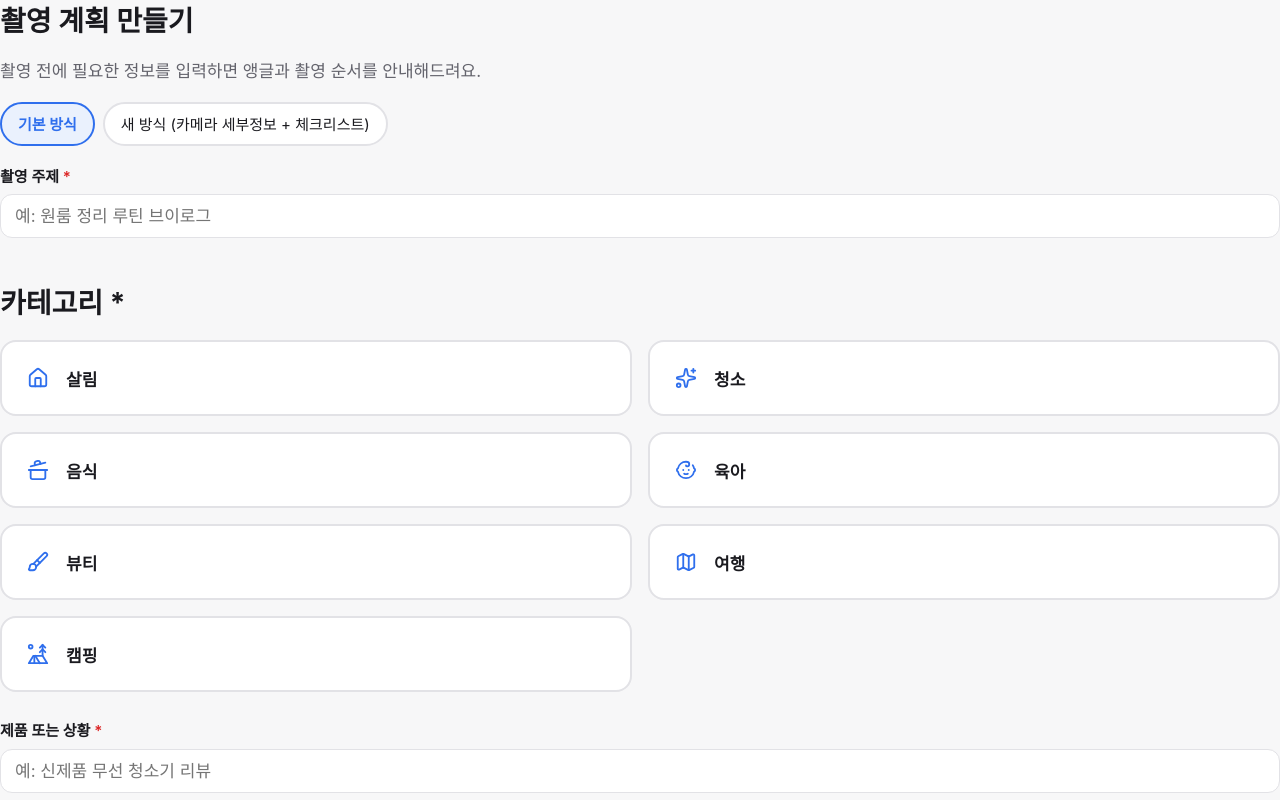
Scenario: ShootingGuideScreen - 새 방식(v2) › v2 폼 제출 시 새 스키마로 요청하고 체크리스트 결과 화면을 보여준다
Click the button "새 방식 (카메라 세부정보 + 체크리스트)" at (245, 124), box x1=103 y1=102 x2=388 y2=146
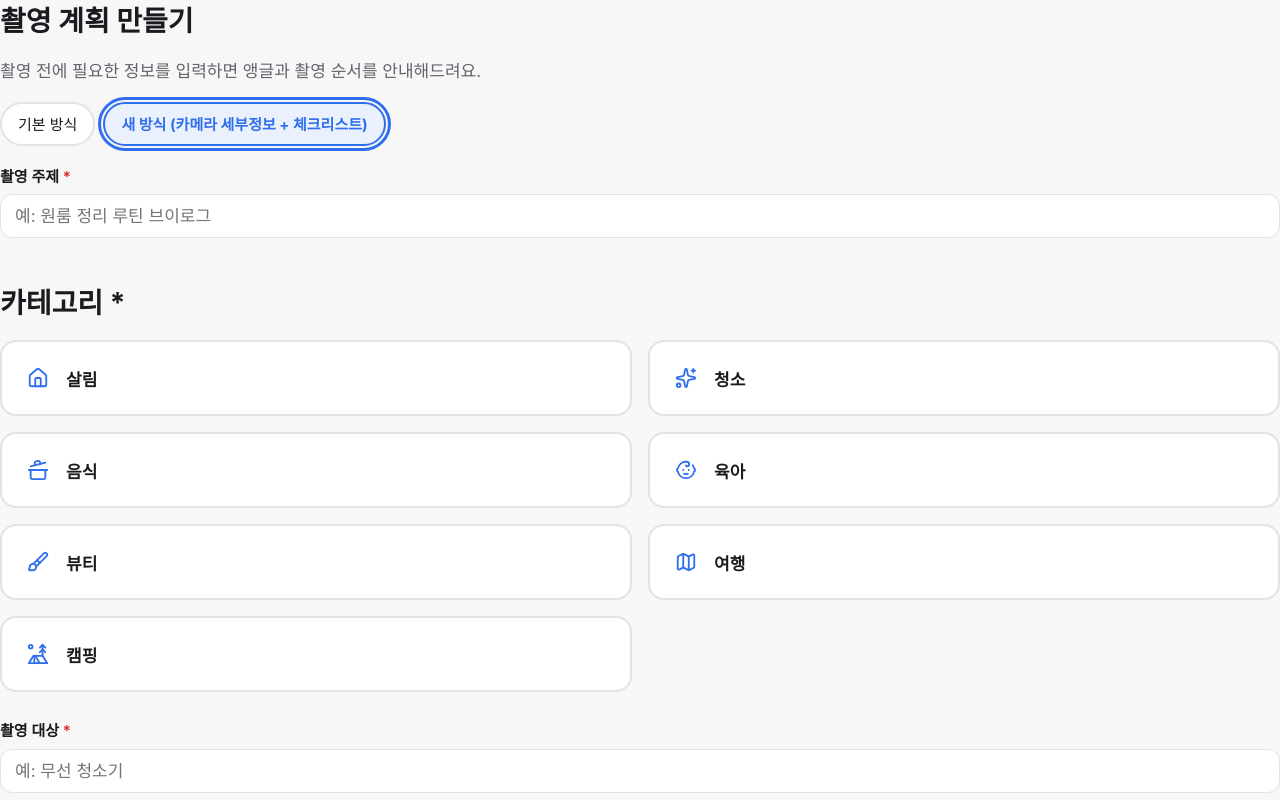
Type "캠핑 요리" into the field labelled "촬영 주제 *" at (640, 216), box x1=0 y1=194 x2=1279 y2=238
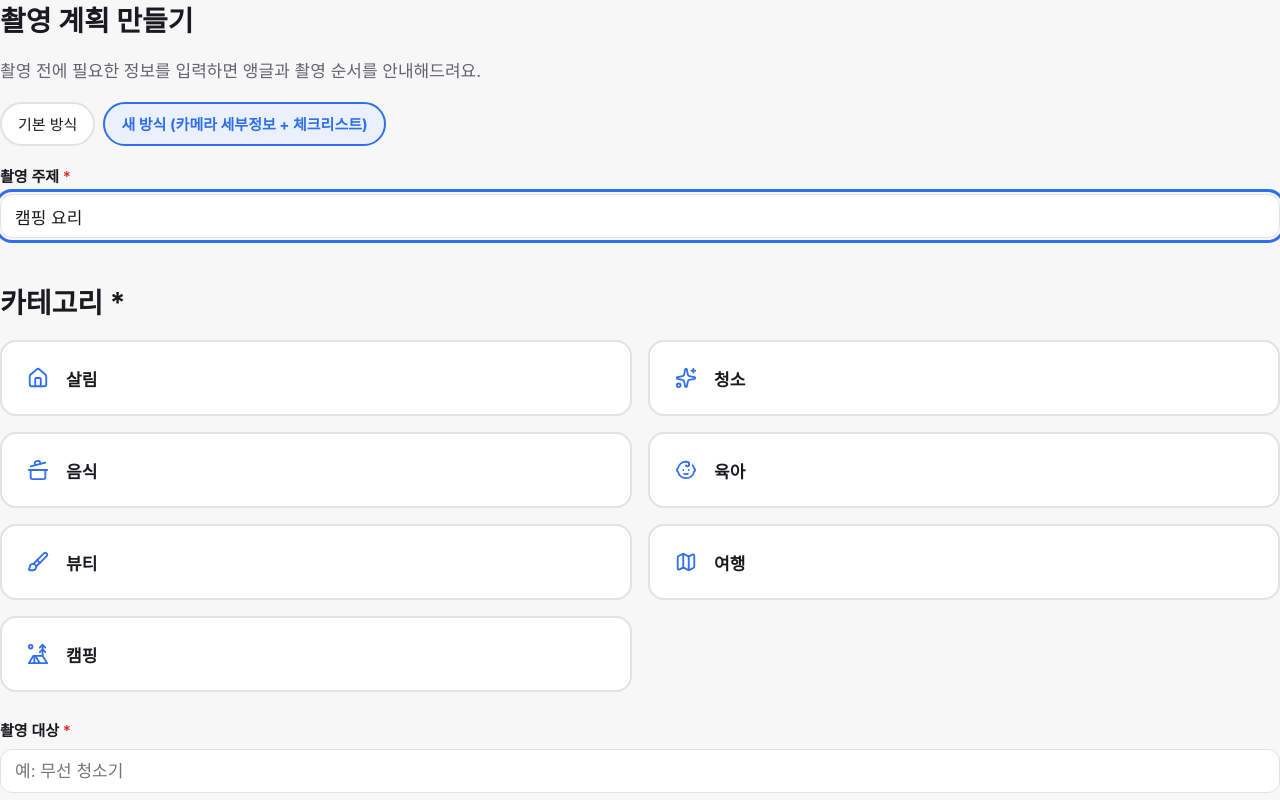
Click the button "캠핑" at (82, 656), box x1=0 y1=616 x2=632 y2=692
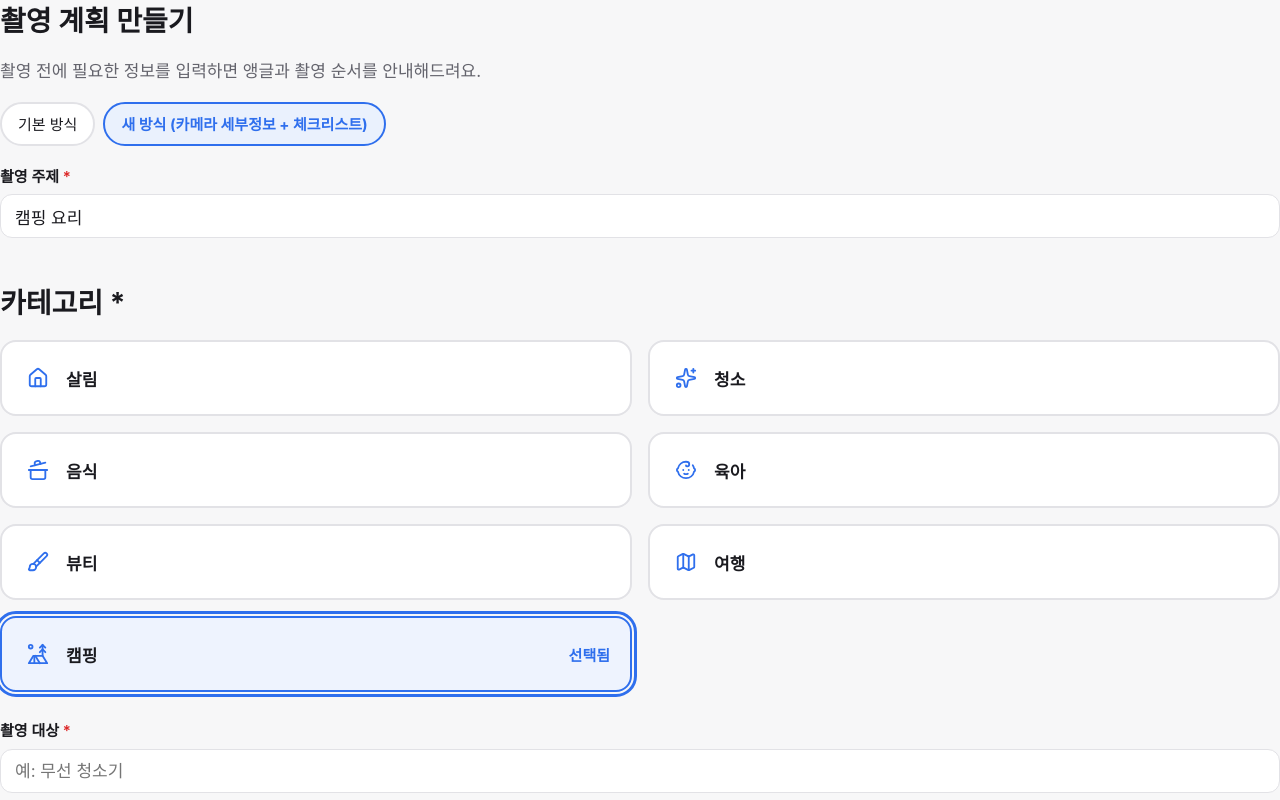
Type "더치오븐 요리" into the field labelled "촬영 대상 *" at (640, 770), box x1=0 y1=748 x2=1279 y2=792
(page scrolled)
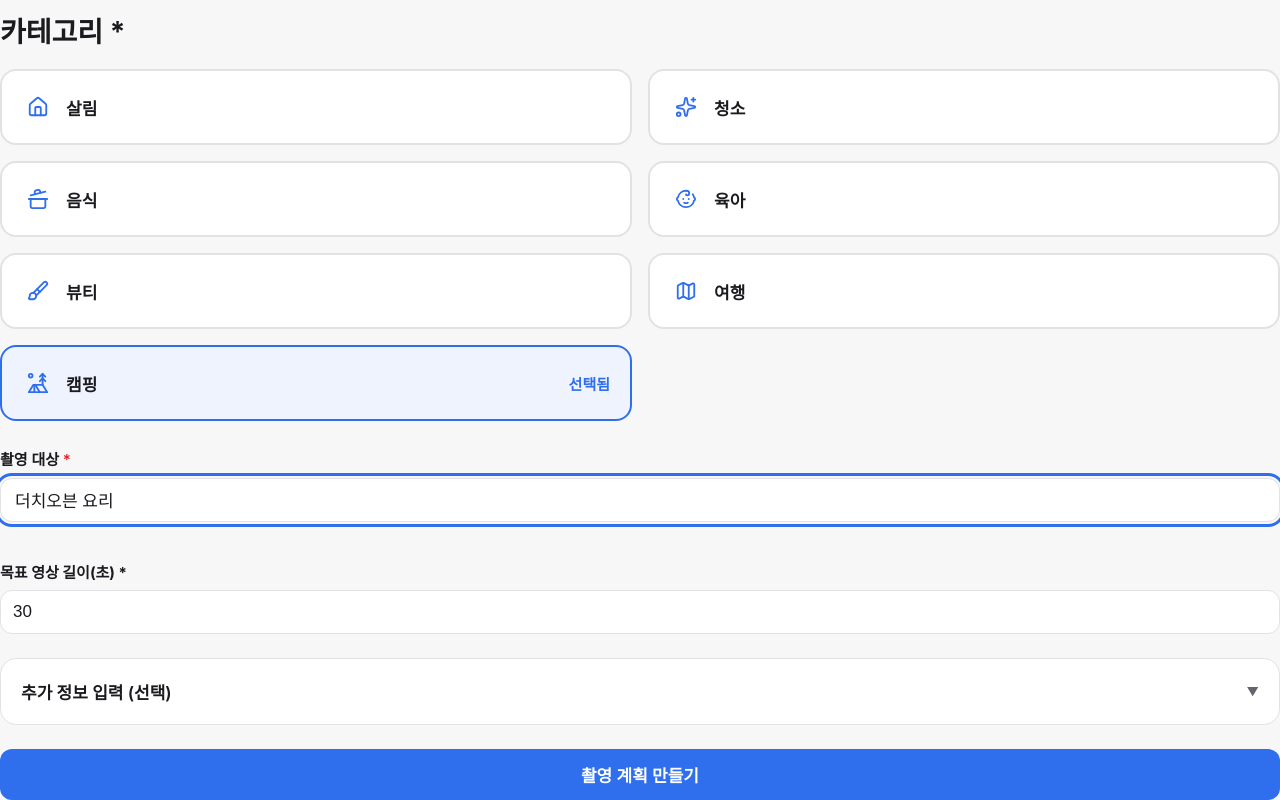
Click the button "촬영 계획 만들기" at (640, 774), box x1=0 y1=749 x2=1279 y2=799
(page scrolled)
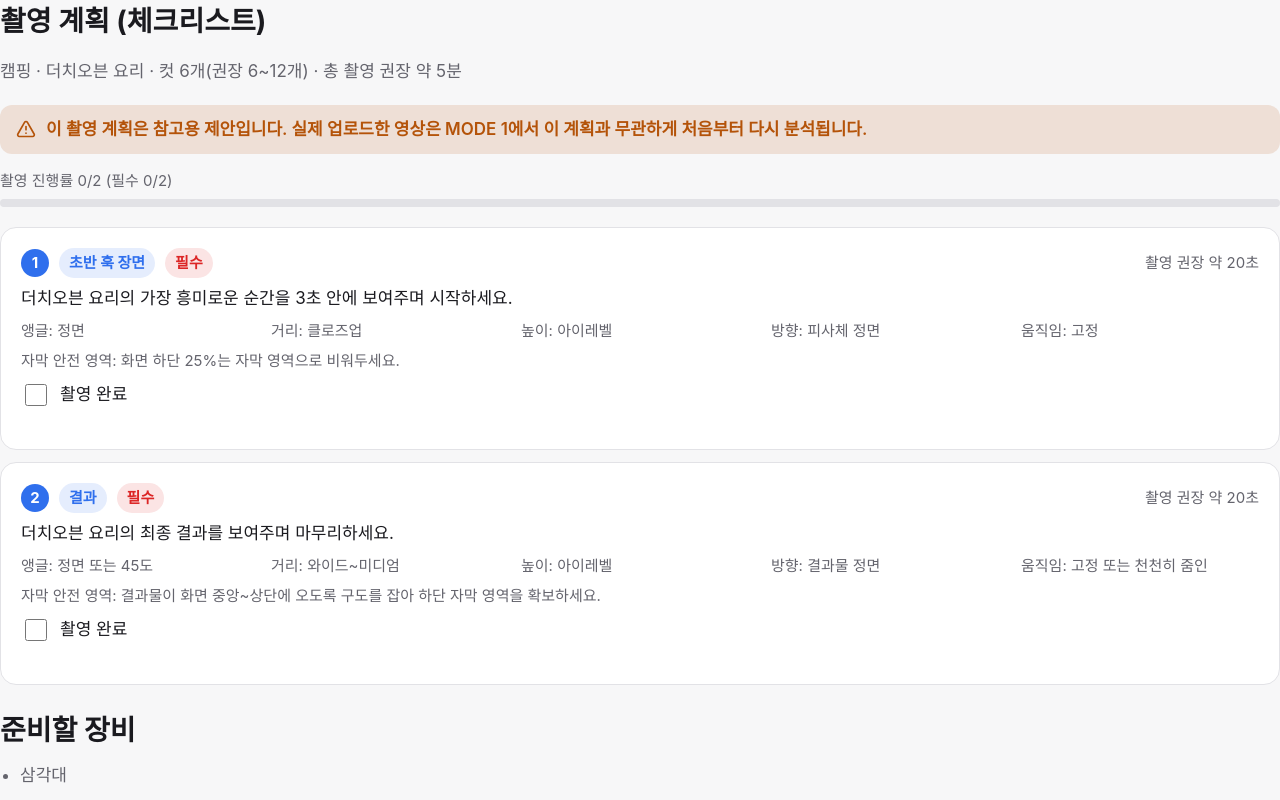
Expected: the heading "촬영 계획 (체크리스트)" is shown, x1=0 y1=4 x2=266 y2=38
Expected: the text "캠핑 · 더치오븐 요리 · 컷 6개(권장 6~12개) · 총 촬영 권장 약 5분" is shown, x1=0 y1=61 x2=462 y2=81
Expected: the text "필수" is shown 2 times, x1=165 y1=248 x2=213 y2=278; x1=117 y1=482 x2=164 y2=513
